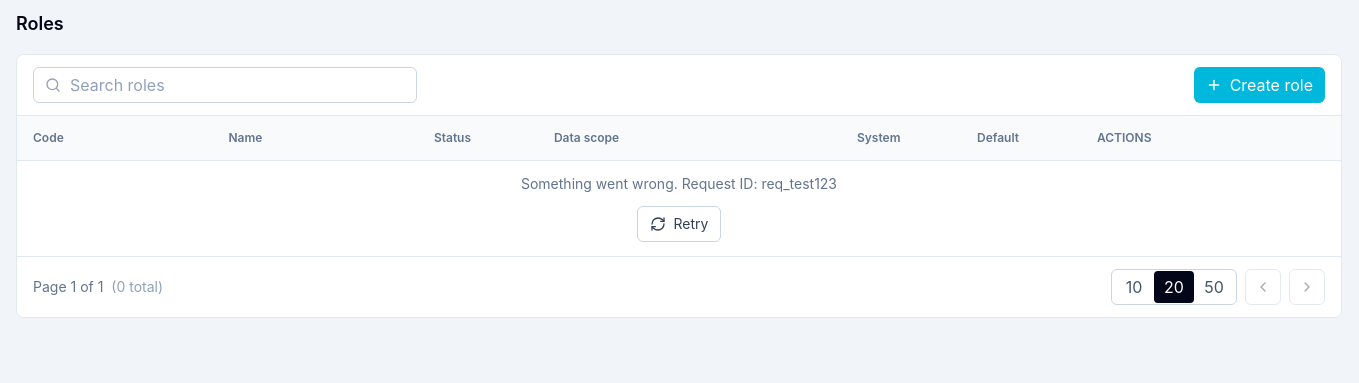
RolesPage › renders an error state with retry
Expected: the text "Something went wrong. Request ID: req_test123" is shown, [521, 174, 837, 194]
Click the button "Retry".
click(679, 224)  # box [636, 206, 721, 242]
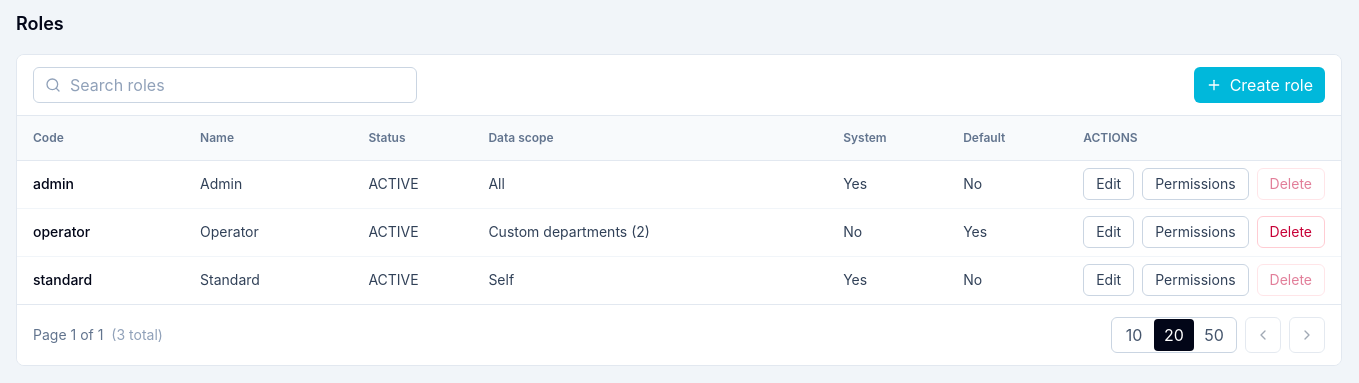
Expected: the text "Admin" is shown, [184, 160, 352, 208]
